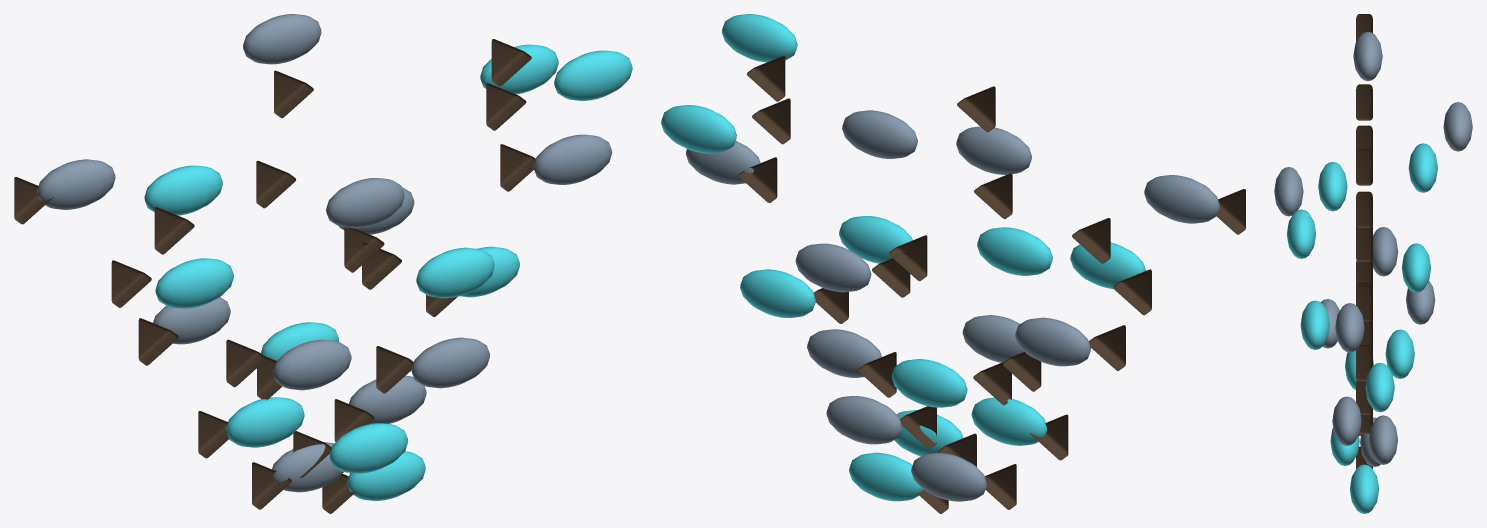
The model's file is swarm_v6.glb.
The picture shows the model from 3 angles, left to right: view 1: azimuth 30°, elevation 25°; view 2: azimuth 150°, elevation 25°; view 3: azimuth 270°, elevation 25°; orthographic projection. The views are drawn at different scales.
Parts seen in each view (by area): view 1: FISH_BODY_ACCENT.005, FISH_BODY_PRIMARY.009, FISH_BODY_ACCENT.006, FISH_BODY_PRIMARY.003, FISH_BODY_ACCENT.001, FISH_BODY_PRIMARY.002, FISH_BODY_ACCENT.009, FISH_BODY_PRIMARY.006, FISH_BODY_PRIMARY.007, FISH_BODY_ACCENT.002, FISH_BODY_PRIMARY.008, FISH_BODY_ACCENT.007 (+26 smaller); view 2: FISH_BODY_PRIMARY.004, FISH_BODY_PRIMARY.001, FISH_BODY_ACCENT.003, FISH_BODY_PRIMARY.005, FISH_BODY_ACCENT.007, FISH_BODY_ACCENT.008, FISH_BODY_ACCENT.004, FISH_BODY_PRIMARY.009, FISH_BODY_PRIMARY, FISH_BODY_PRIMARY.008, FISH_BODY_PRIMARY.007, FISH_BODY_ACCENT.009 (+27 smaller); view 3: FISH_BODY_ACCENT.007, FISH_BODY_PRIMARY.001, FISH_BODY_PRIMARY.002, FISH_BODY_ACCENT.005, FISH_BODY_PRIMARY.006, FISH_BODY_PRIMARY.008, FISH_BODY_PRIMARY.009, FISH_BODY_ACCENT.006, FISH_BODY_ACCENT, FISH_BODY_ACCENT.009, FISH_BODY_ACCENT.004, FISH_BODY_ACCENT.008 (+19 smaller).
Boxes of the visible parts, x1=… form: FISH_BODY_ACCENT.005: x1=416, y1=247, x2=494, y2=298; FISH_BODY_PRIMARY.009: x1=243, y1=14, x2=321, y2=64; FISH_BODY_ACCENT.006: x1=155, y1=258, x2=233, y2=308; FISH_BODY_PRIMARY.003: x1=273, y1=339, x2=351, y2=390; FISH_BODY_ACCENT.001: x1=329, y1=423, x2=408, y2=473; FISH_BODY_PRIMARY.002: x1=411, y1=337, x2=489, y2=388; FISH_BODY_ACCENT.009: x1=554, y1=50, x2=632, y2=100; FISH_BODY_PRIMARY.006: x1=533, y1=134, x2=612, y2=184; FISH_BODY_PRIMARY.007: x1=326, y1=178, x2=404, y2=228; FISH_BODY_ACCENT.002: x1=226, y1=397, x2=304, y2=447; FISH_BODY_PRIMARY.008: x1=37, y1=159, x2=115, y2=209; FISH_BODY_ACCENT.007: x1=144, y1=165, x2=222, y2=215; FISH_BODY_PRIMARY.004: x1=1015, y1=317, x2=1090, y2=366; FISH_BODY_PRIMARY.001: x1=826, y1=396, x2=902, y2=444; FISH_BODY_ACCENT.003: x1=891, y1=359, x2=967, y2=407; FISH_BODY_PRIMARY.005: x1=795, y1=243, x2=871, y2=292; FISH_BODY_ACCENT.007: x1=977, y1=227, x2=1052, y2=275; FISH_BODY_ACCENT.008: x1=661, y1=105, x2=736, y2=153; FISH_BODY_ACCENT.004: x1=740, y1=269, x2=815, y2=317; FISH_BODY_PRIMARY.009: x1=842, y1=110, x2=917, y2=158; FISH_BODY_PRIMARY: x1=911, y1=453, x2=986, y2=501; FISH_BODY_PRIMARY.008: x1=1144, y1=175, x2=1219, y2=223; FISH_BODY_PRIMARY.007: x1=956, y1=126, x2=1031, y2=174; FISH_BODY_ACCENT.009: x1=722, y1=14, x2=797, y2=62; FISH_BODY_ACCENT.007: x1=1408, y1=143, x2=1437, y2=192; FISH_BODY_PRIMARY.001: x1=1368, y1=415, x2=1397, y2=464; FISH_BODY_PRIMARY.002: x1=1332, y1=396, x2=1361, y2=445; FISH_BODY_ACCENT.005: x1=1300, y1=300, x2=1329, y2=349; FISH_BODY_PRIMARY.006: x1=1335, y1=303, x2=1364, y2=352; FISH_BODY_PRIMARY.008: x1=1353, y1=31, x2=1382, y2=80; FISH_BODY_PRIMARY.009: x1=1443, y1=102, x2=1472, y2=151; FISH_BODY_ACCENT.006: x1=1318, y1=162, x2=1347, y2=211; FISH_BODY_ACCENT: x1=1350, y1=464, x2=1378, y2=513; FISH_BODY_ACCENT.009: x1=1286, y1=209, x2=1315, y2=258; FISH_BODY_ACCENT.004: x1=1365, y1=363, x2=1394, y2=412; FISH_BODY_ACCENT.008: x1=1401, y1=243, x2=1430, y2=292.
Bounding box in the file's own units: 2.71 × 2 × 0.9461.
